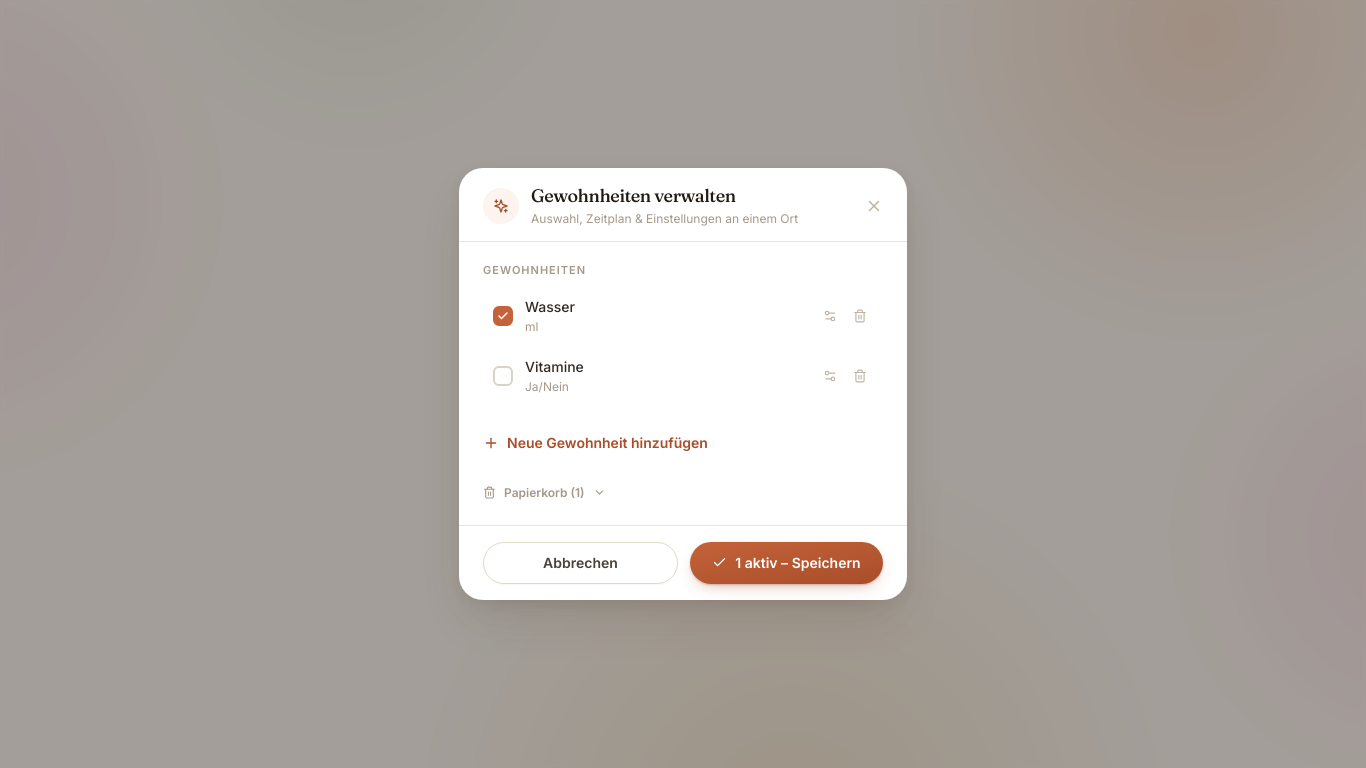
ManageHabitsModal › expands the trash and restores a habit from it
Click the button "Papierkorb (1)" at (544, 493), box [483, 481, 606, 505]
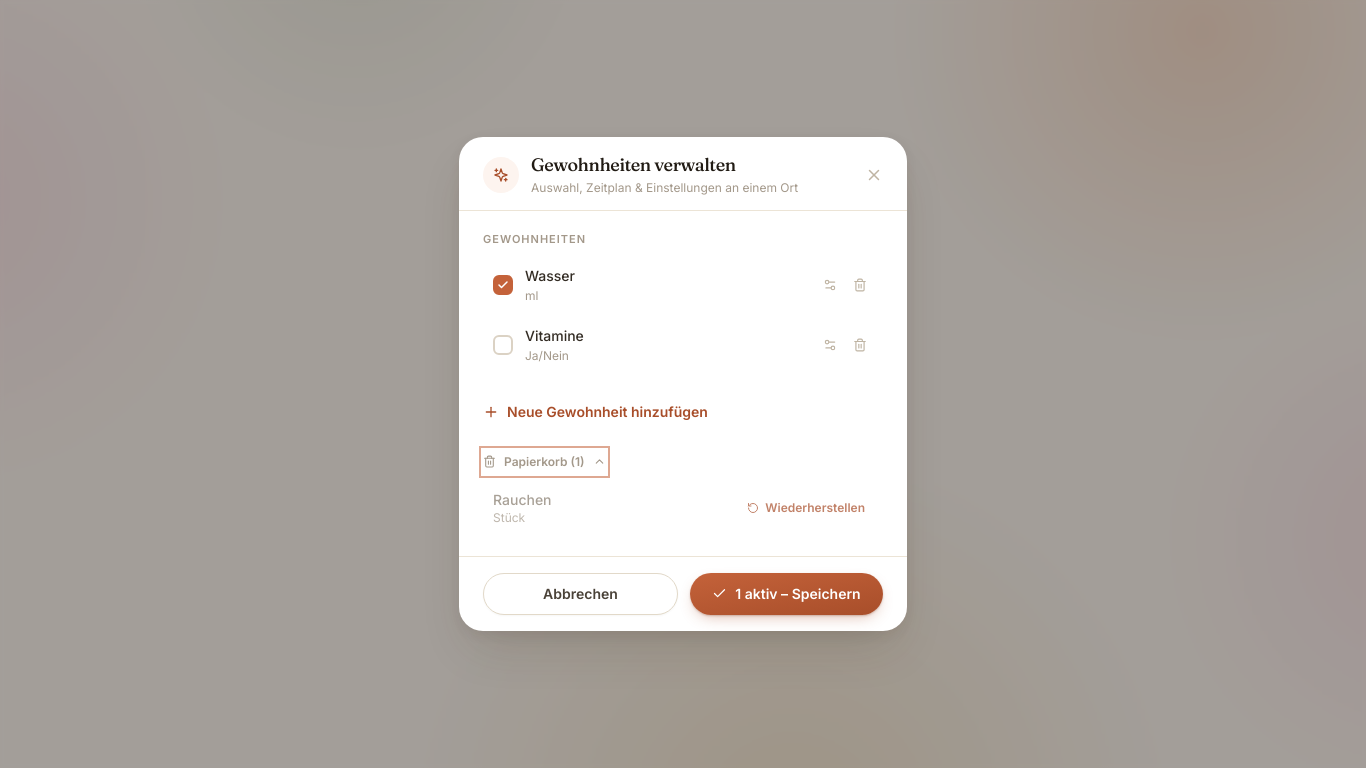
Check: the text "Rauchen" is shown, box [493, 491, 552, 508]
Click the button "Wiederherstellen" at (806, 508), box [739, 494, 873, 522]
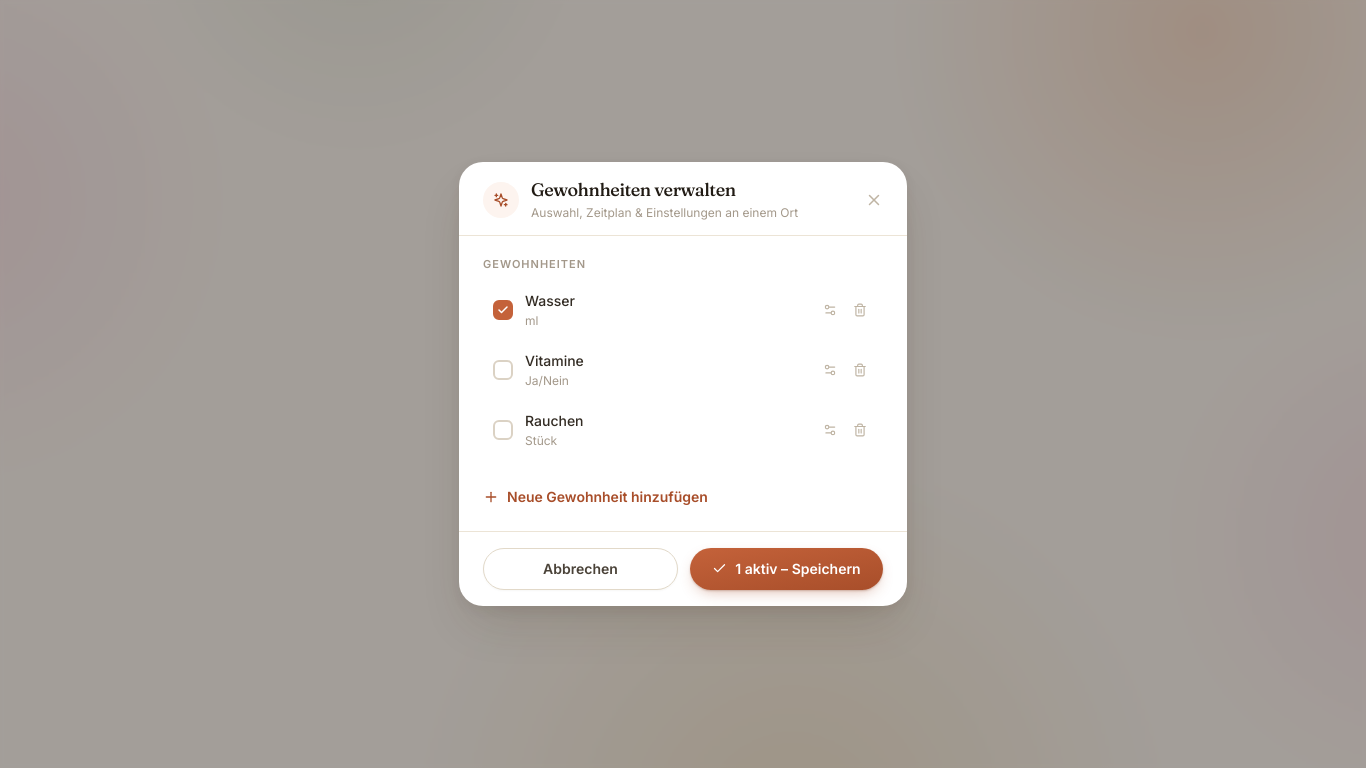
Check: the button "Papierkorb (1)" is gone
